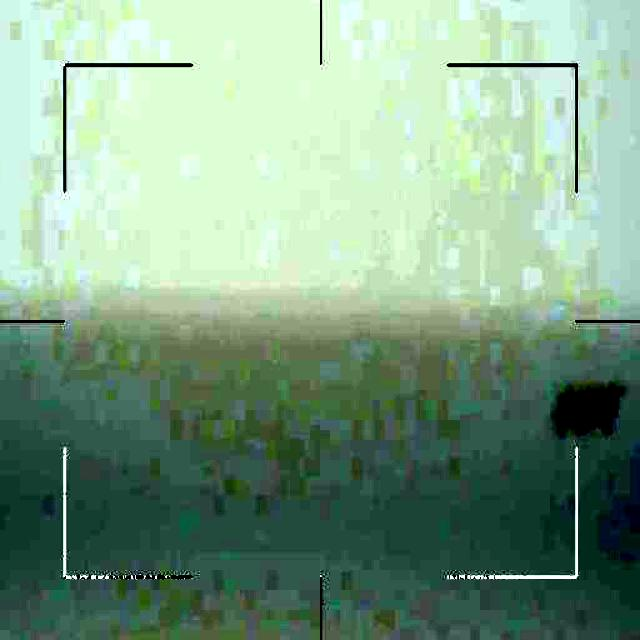bird: (552, 386, 616, 438)
